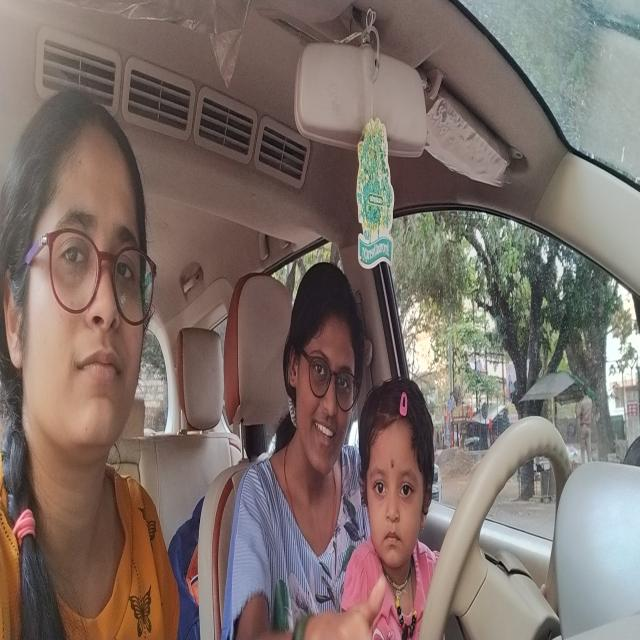child: (358, 371, 437, 576)
person: (2, 67, 164, 492), (285, 258, 361, 482)
